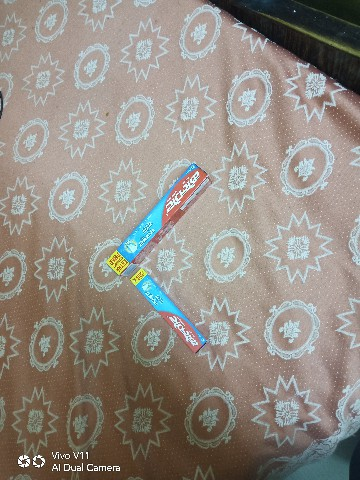colgatetoothpaste big: (102, 158, 218, 271)
colgatetoothpaste small: (127, 263, 224, 362)
